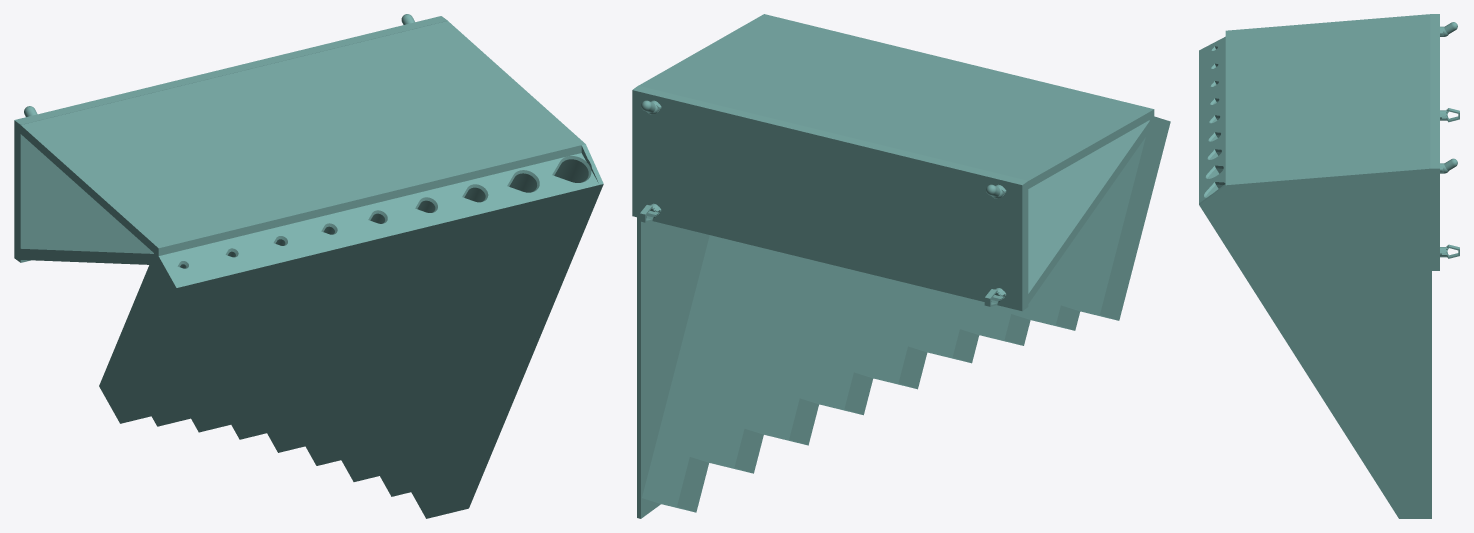
The model's file is part-hx02__v1__right-cheek__fit-pf02c9-hoop5__installed.glb.
The picture shows the model from 3 angles, left to right: view 1: azimuth 30°, elevation 25°; view 2: azimuth 150°, elevation 25°; view 3: azimuth 270°, elevation 25°; orthographic projection. The views are drawn at different scales.
Parts seen in each view (by area): view 1: holder; view 2: holder; view 3: holder.
Boxes of the visible parts, x1,y1,x2,y2 form: holder: (14,14,603,518); holder: (632,14,1170,518); holder: (1199,14,1459,518).
Size of the model in its own units: 0.2012 by 0.213 by 0.1435.
